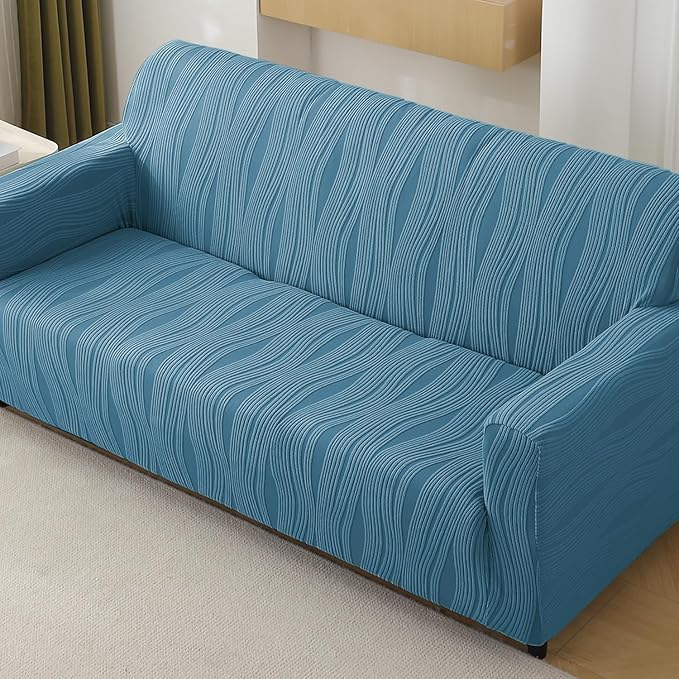3seatersofa: (2, 42, 678, 655)
backrest: (124, 42, 678, 371)
leftarmrest: (483, 302, 678, 644)
leg: (531, 641, 545, 658)
rightarmrest: (0, 124, 136, 282)
seat: (0, 238, 527, 626)
